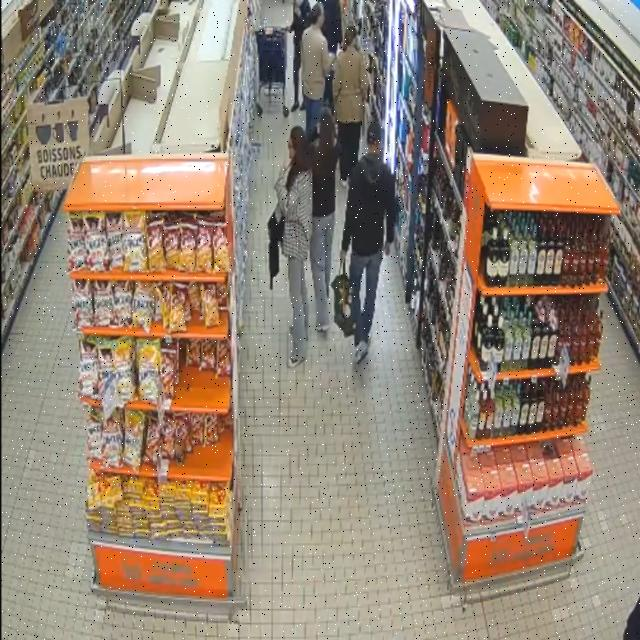bags: (332, 264, 355, 337)
hands: (340, 251, 346, 265), (384, 242, 390, 256)
person: (341, 123, 396, 363), (275, 127, 312, 367), (311, 108, 339, 332), (333, 26, 368, 186), (302, 2, 331, 137), (290, 0, 311, 111), (323, 0, 342, 56)
